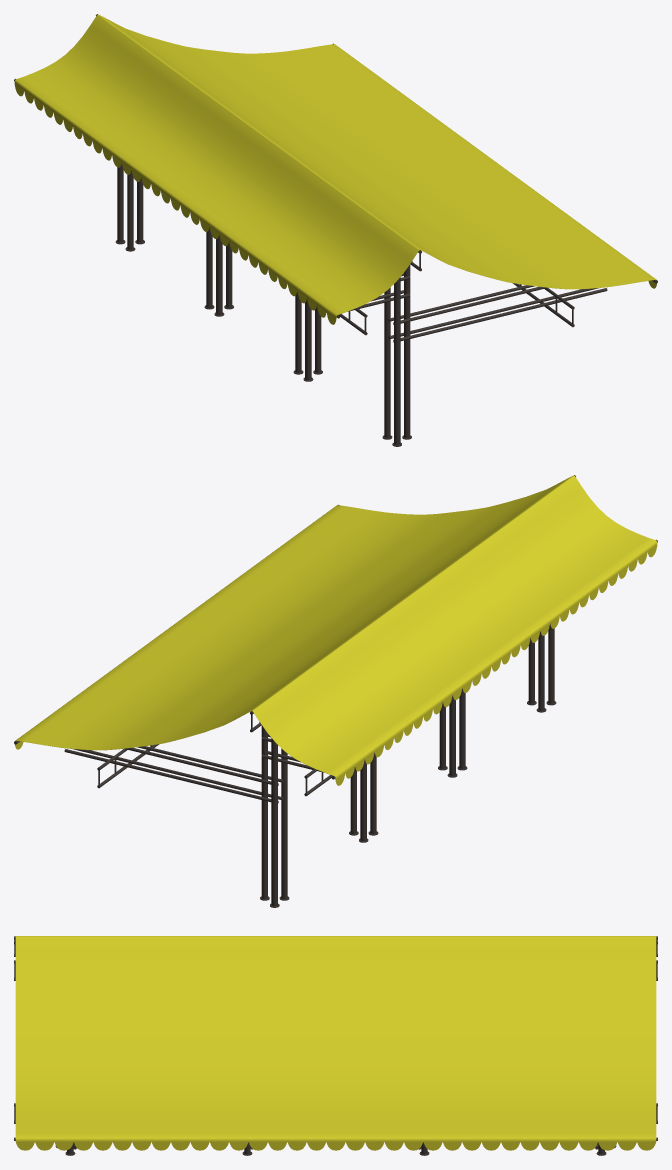
Rendered from canopy01.FBX.
The picture shows the model from 3 angles, top to bottom: view 1: azimuth 30°, elevation 25°; view 2: azimuth 150°, elevation 25°; view 3: azimuth 270°, elevation 25°; orthographic projection.
Visible parts, largest first — view 1: tent, Cylinder142, Cylinder140, Cylinder141, Cylinder149, Cylinder148; view 2: tent, Cylinder01, Cylinder02, Cylinder03, Cylinder30, Cylinder31; view 3: tent.
Part boxes in pixels (x1=…): tent: x1=14, y1=14, x2=656, y2=324; Cylinder142: x1=394, y1=277, x2=400, y2=445; Cylinder140: x1=404, y1=264, x2=410, y2=438; Cylinder141: x1=384, y1=287, x2=390, y2=438; Cylinder149: x1=393, y1=288, x2=607, y2=342; Cylinder148: x1=388, y1=288, x2=598, y2=339; tent: x1=15, y1=475, x2=657, y2=785; Cylinder01: x1=271, y1=738, x2=277, y2=906; Cylinder02: x1=261, y1=725, x2=267, y2=898; Cylinder03: x1=281, y1=748, x2=287, y2=899; Cylinder30: x1=64, y1=749, x2=278, y2=803; Cylinder31: x1=73, y1=749, x2=283, y2=800; tent: x1=15, y1=936, x2=656, y2=1150.
Bounding box in the file's own units: 11.46 × 7.21 × 20.
